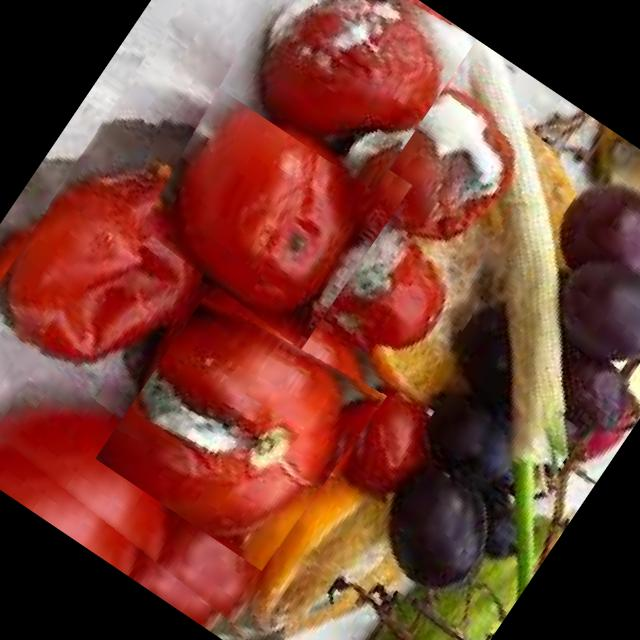Organic: (0, 0, 640, 640), (94, 280, 386, 574), (118, 63, 412, 351), (208, 0, 475, 191)
